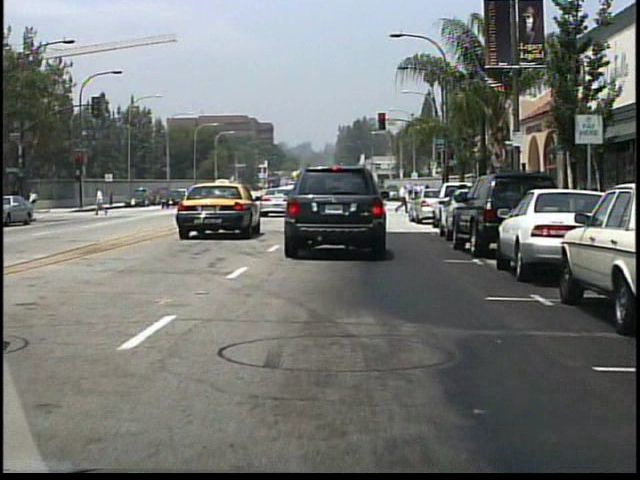person: (393, 182, 412, 217), (93, 187, 110, 218), (27, 188, 41, 213)
